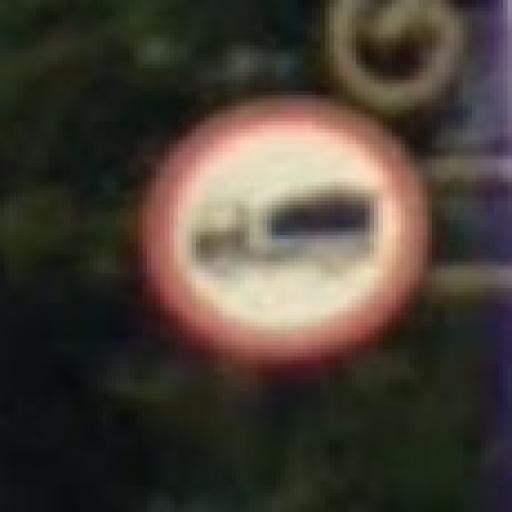traffic_sign: (139, 92, 433, 369)
